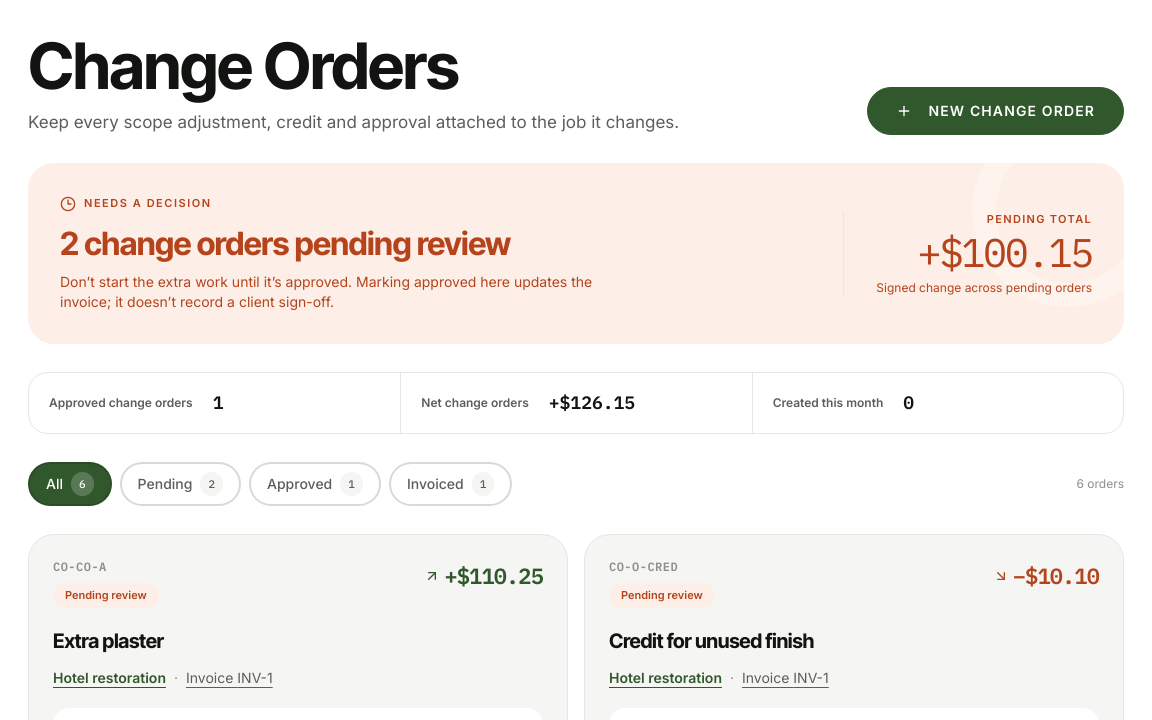
Test: Change Orders redesign › uses the filtered net rather than a global total in the footer
Click the button with test id "filter-co-invoiced" at (451, 484), box [389,462,512,506]
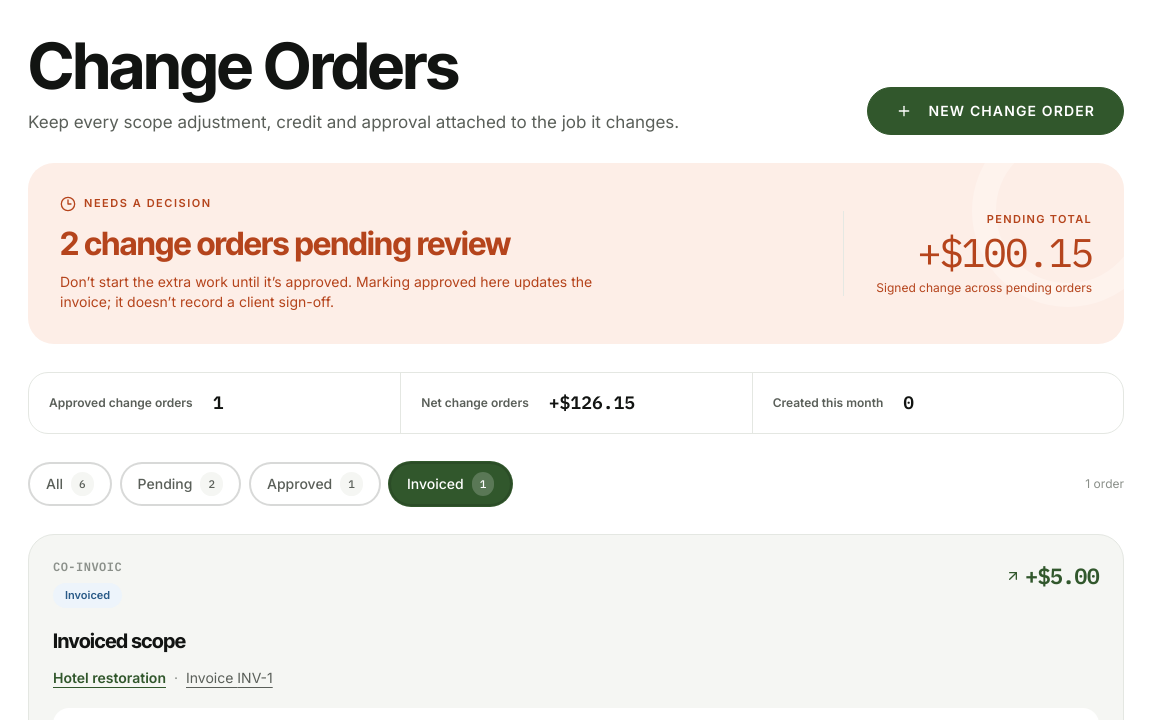
Click the button with test id "filter-co-pending" at (180, 484), box [120,462,241,506]
(page scrolled)
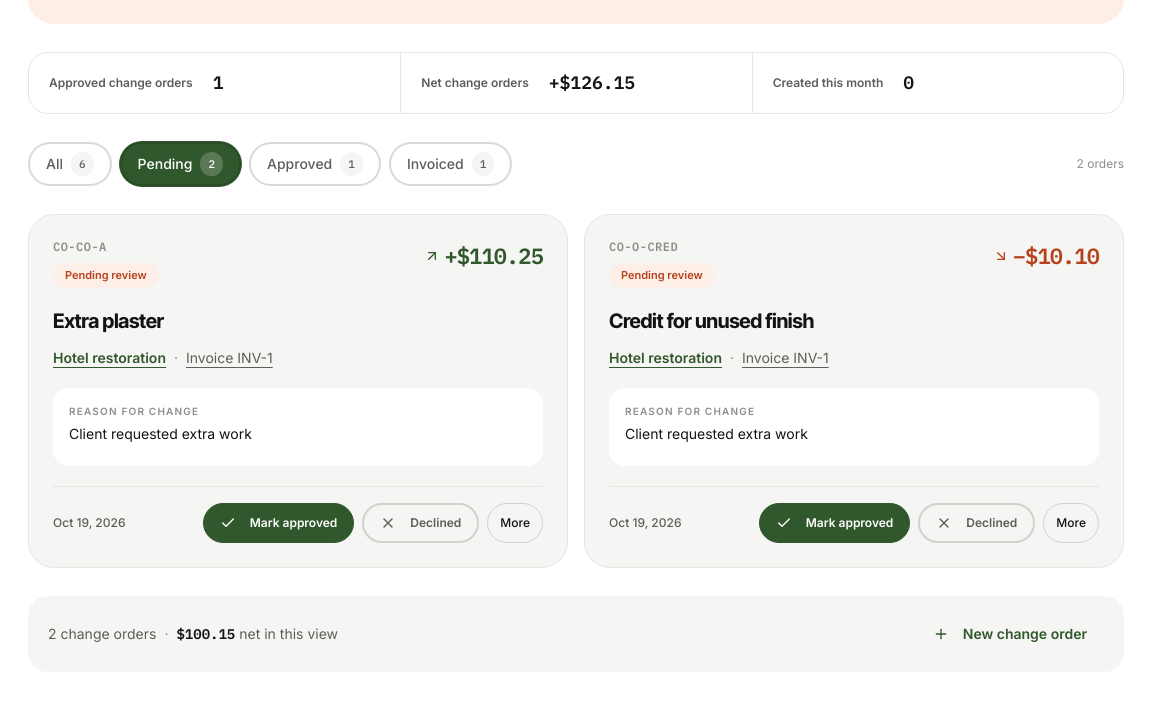
Result: the text with test id "text-co-filtered-total" reads "$100.15" at [176,625,235,643]
